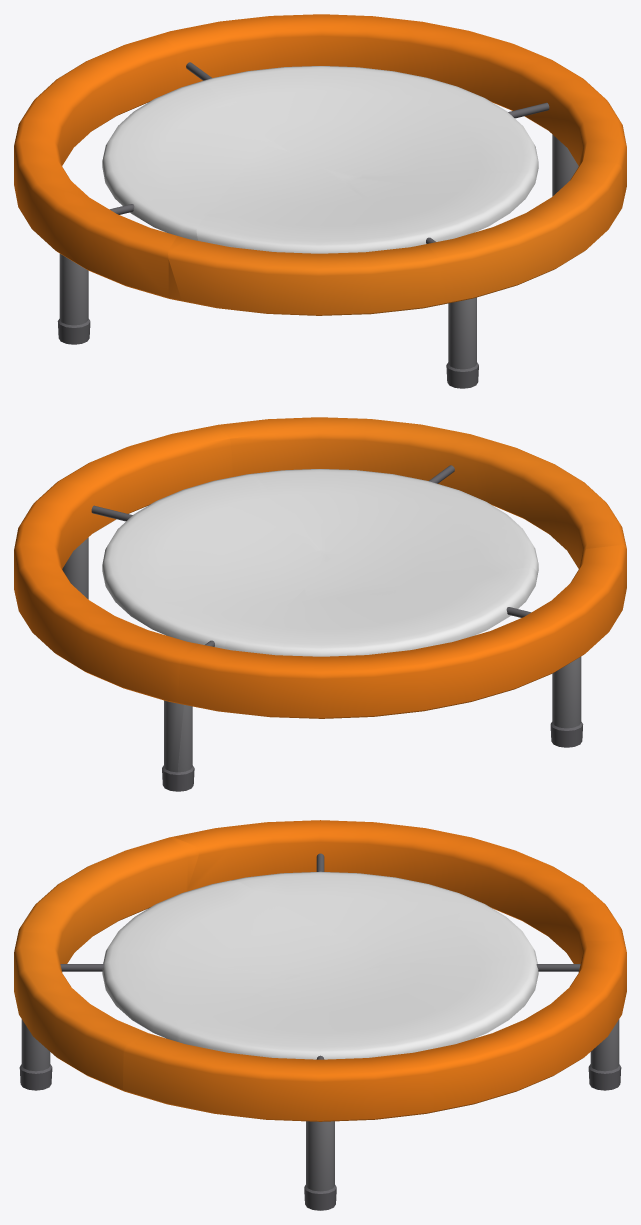
File: Trampoline_Fracture.FBX
3 views of the same model, one above another, from view 1: azimuth 30°, elevation 25°; view 2: azimuth 150°, elevation 25°; view 3: azimuth 270°, elevation 25° (orthographic).
Parts seen in each view (by area): view 1: Circle001_Part_3, Circle001_Part_2, Circle001_Part_4, Circle001_Part_1; view 2: Circle001_Part_3, Circle001_Part_2, Circle001_Part_4, Circle001_Part_1; view 3: Circle001_Part_3, Circle001_Part_2, Circle001_Part_4, Circle001_Part_1.
Part boxes in pixels (<box>): Circle001_Part_3: <box>158,14,626,206</box>; Circle001_Part_2: <box>14,35,262,344</box>; Circle001_Part_4: <box>168,136,440,315</box>; Circle001_Part_1: <box>340,160,622,388</box>; Circle001_Part_3: <box>14,425,329,791</box>; Circle001_Part_2: <box>176,545,626,791</box>; Circle001_Part_4: <box>292,443,626,601</box>; Circle001_Part_1: <box>216,417,499,558</box>; Circle001_Part_3: <box>123,940,626,1210</box>; Circle001_Part_2: <box>173,820,625,963</box>; Circle001_Part_4: <box>17,836,405,975</box>; Circle001_Part_1: <box>14,932,291,1090</box>.
Size of the model in its own units: 68.82 by 16.98 by 68.82.
